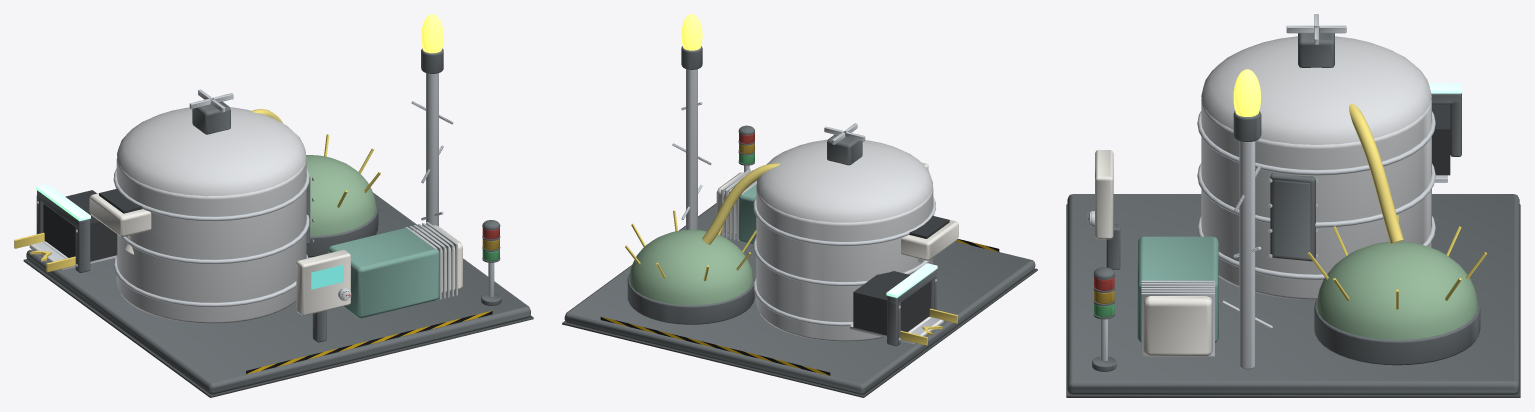
The model's file is biogas.glb.
3 renders of one model, left to right at view 1: azimuth 30°, elevation 25°; view 2: azimuth 150°, elevation 25°; view 3: azimuth 270°, elevation 25°, orthographic. The views are drawn at different scales.
Parts seen in each view (by area): view 1: zocalo, digestor, digestor_techo, motogen, gasometro_cupula, boca_entrada_hueco, cuadro_bio, antorcha_mastil, zocalo_goma, tolva, digestor_aro2, gasometro_anillo (+12 smaller); view 2: zocalo, digestor, digestor_techo, gasometro_cupula, boca_entrada_hueco, gasometro_anillo, antorcha_mastil, zocalo_goma, tolva, tubo_gas, digestor_aro2, franja1 (+10 smaller); view 3: zocalo, digestor, digestor_techo, gasometro_cupula, gasometro_anillo, motogen, motogen_alternador, mirilla_marco, antorcha_mastil, mirilla_vidrio, zocalo_goma, tubo_gas (+11 smaller).
Boxes of the visible parts, x1,y1,x2,y2 form: zocalo: (26,192,530,394); digestor: (116,157,306,323); digestor_techo: (117,107,306,196); motogen: (328,227,439,318); gasometro_cupula: (306,155,376,235); boca_entrada_hueco: (43,190,117,261); cuadro_bio: (296,250,350,315); antorcha_mastil: (426,73,438,226); zocalo_goma: (23,259,533,397); tolva: (89,193,151,236); digestor_aro2: (113,168,309,221); gasometro_anillo: (306,202,378,256); zocalo: (564,203,1035,394); digestor: (756,187,933,341); digestor_techo: (756,139,932,222); gasometro_cupula: (629,229,752,305); boca_entrada_hueco: (853,271,930,335); gasometro_anillo: (627,273,754,324); antorcha_mastil: (686,69,697,229); zocalo_goma: (562,268,1037,397); tolva: (901,220,958,260); tubo_gas: (702,163,780,244); digestor_aro2: (753,196,935,245); franja1: (600,316,830,375); zocalo: (1067,194,1519,394); digestor: (1201,98,1431,299); digestor_techo: (1201,36,1431,144); gasometro_cupula: (1316,241,1477,340); gasometro_anillo: (1314,299,1480,365); motogen: (1137,236,1218,342); motogen_alternador: (1143,296,1212,356); mirilla_marco: (1270,173,1315,261); antorcha_mastil: (1239,141,1255,369); mirilla_vidrio: (1274,180,1309,257); zocalo_goma: (1066,204,1520,397); tubo_gas: (1349,103,1403,243).
Size of the model in its own units: 2.21 by 1.53 by 1.97.
26 materials, 1 textured.
